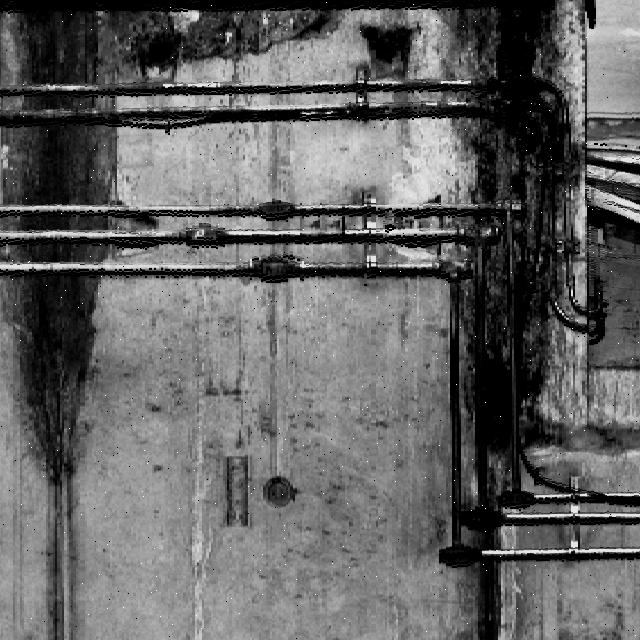leakage: (437, 5, 575, 633), (1, 1, 123, 495), (125, 1, 345, 78), (587, 384, 639, 473)
